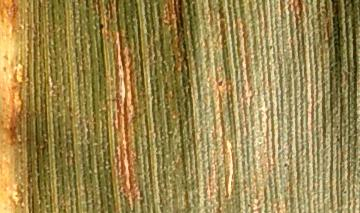tarspot: (95, 20, 108, 33), (280, 159, 293, 172)
